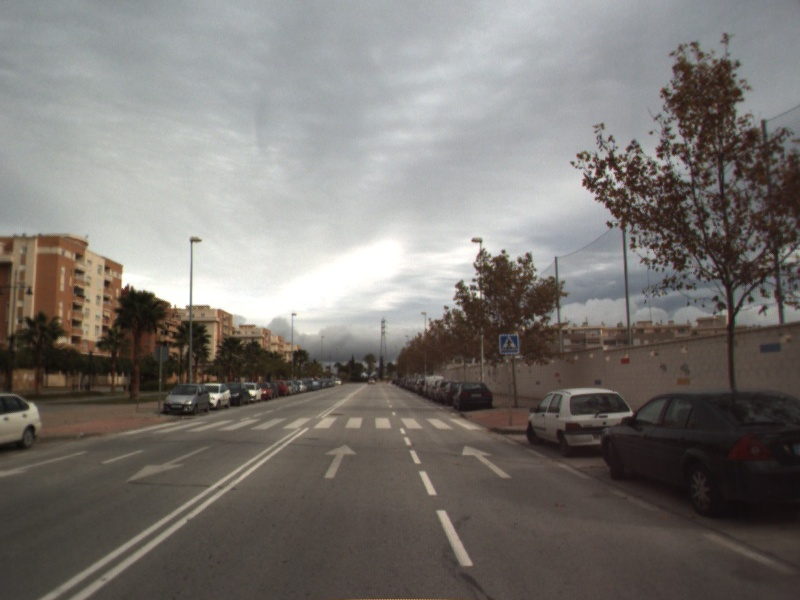STRAIGHT: (460, 443, 514, 480), (321, 442, 359, 480)
